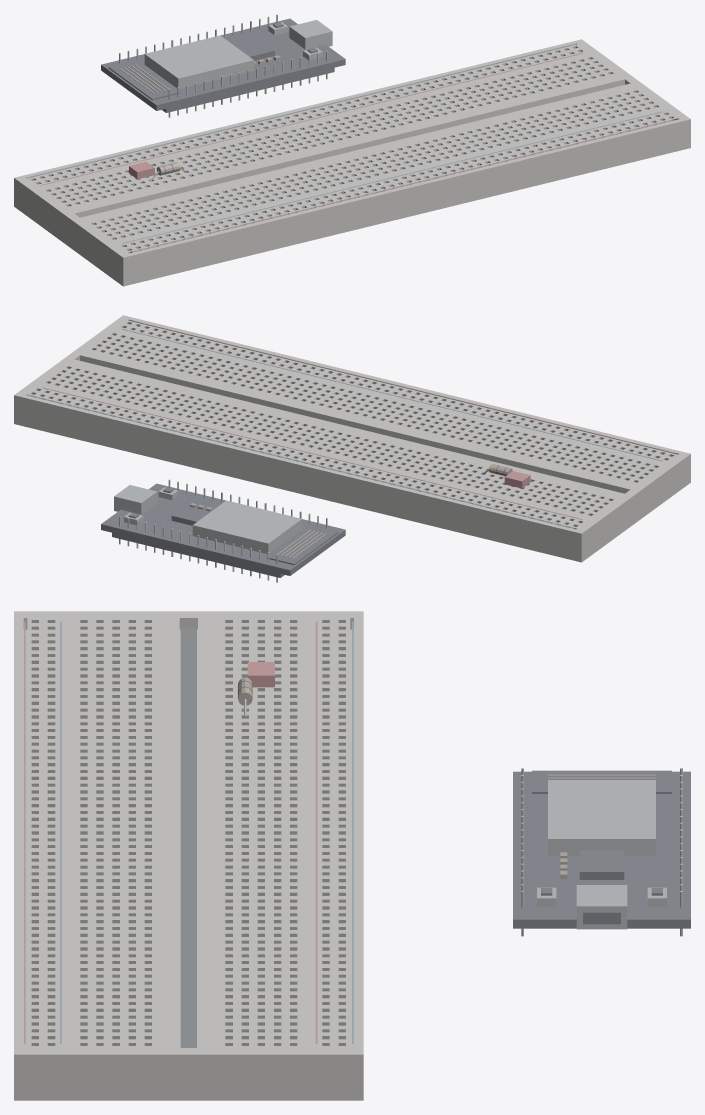
File: step-2.glb
3 renders of one model, top to bottom at view 1: azimuth 30°, elevation 25°; view 2: azimuth 150°, elevation 25°; view 3: azimuth 270°, elevation 25°, orthographic. The views are drawn at different scales.
Parts seen in each view (by area): view 1: bb__mesh, uno__mesh; view 2: bb__mesh, uno__mesh; view 3: bb__mesh, uno__mesh.
Part boxes in pixels (x1,y1,x2,y2): bb__mesh: [14, 39, 690, 286]; uno__mesh: [101, 14, 345, 117]; bb__mesh: [14, 315, 690, 562]; uno__mesh: [101, 479, 345, 582]; bb__mesh: [14, 611, 363, 1100]; uno__mesh: [513, 768, 690, 936].
Bounding box in the file's own units: 0.165 × 0.0112 × 0.1065.
